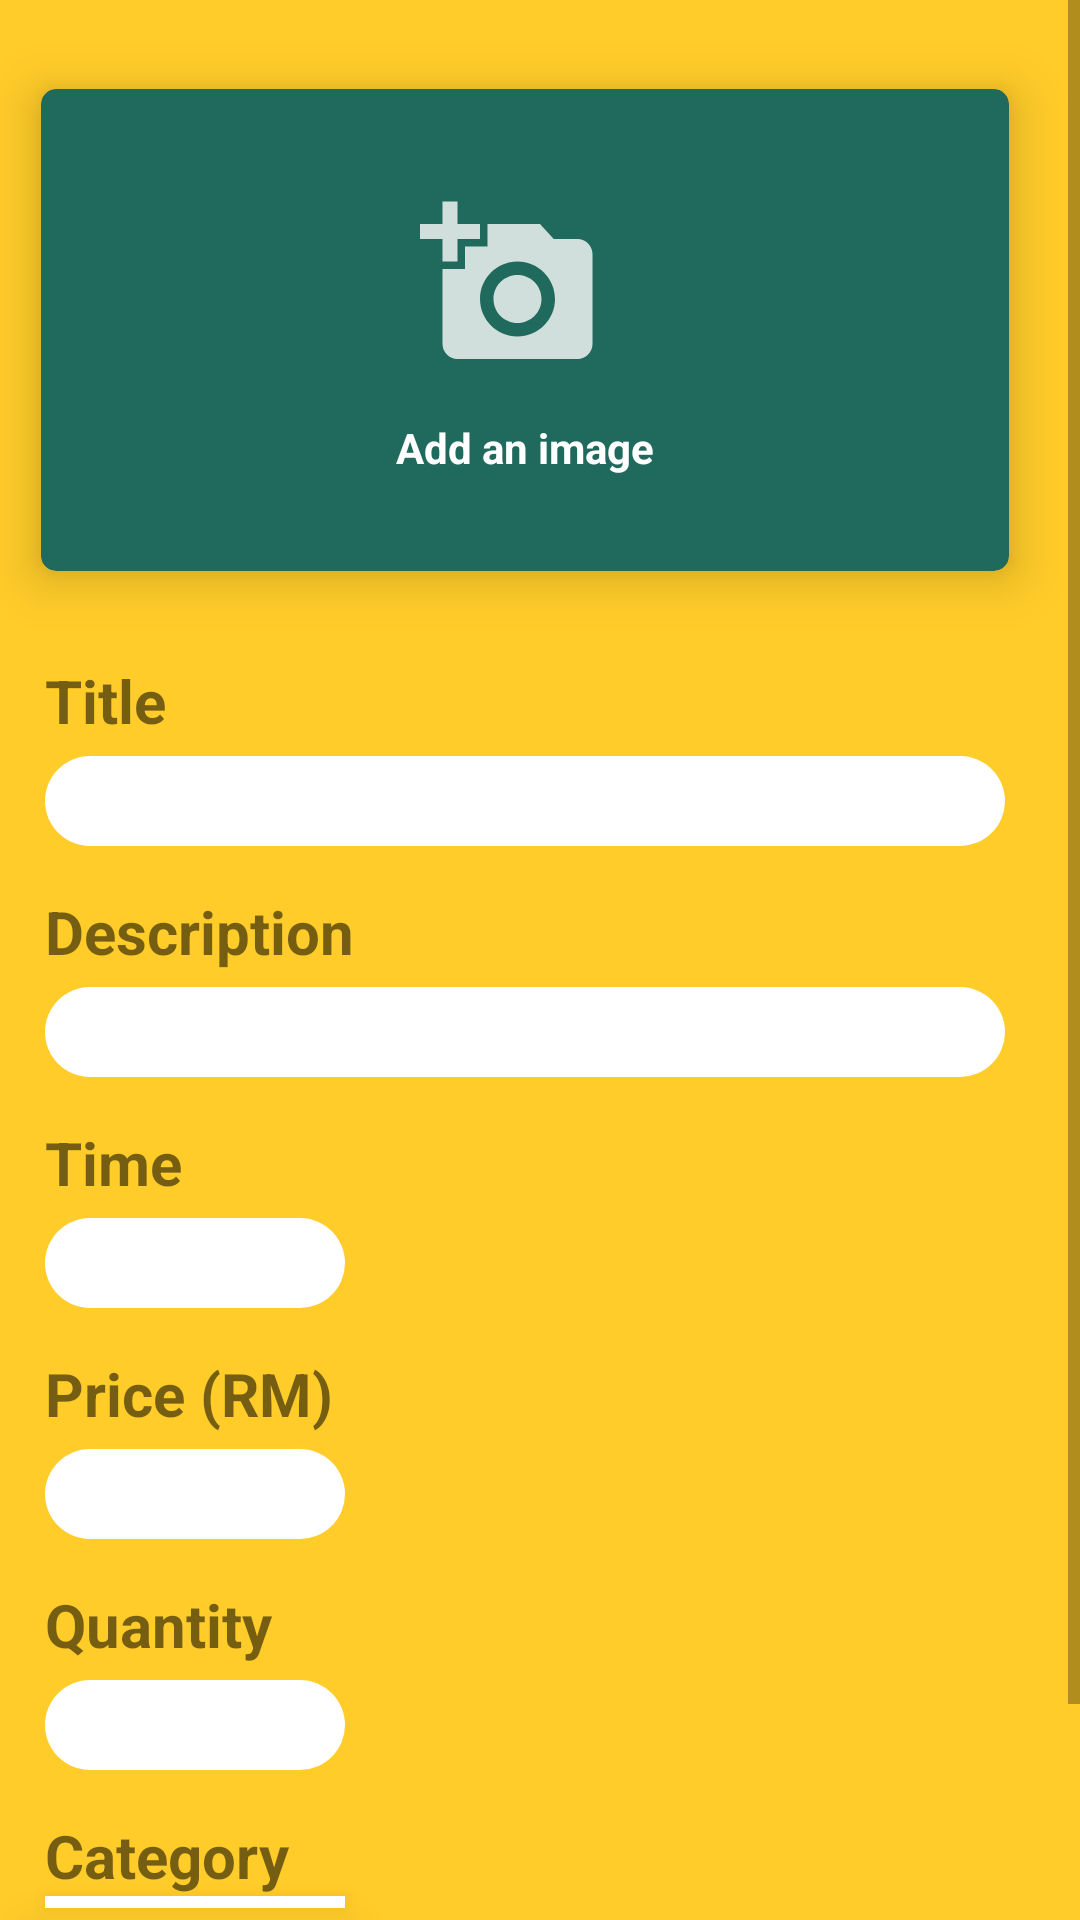

Icon click points for this 1080w x 1920h phone screenshot, format [x,y]:
camera: [506,280]
